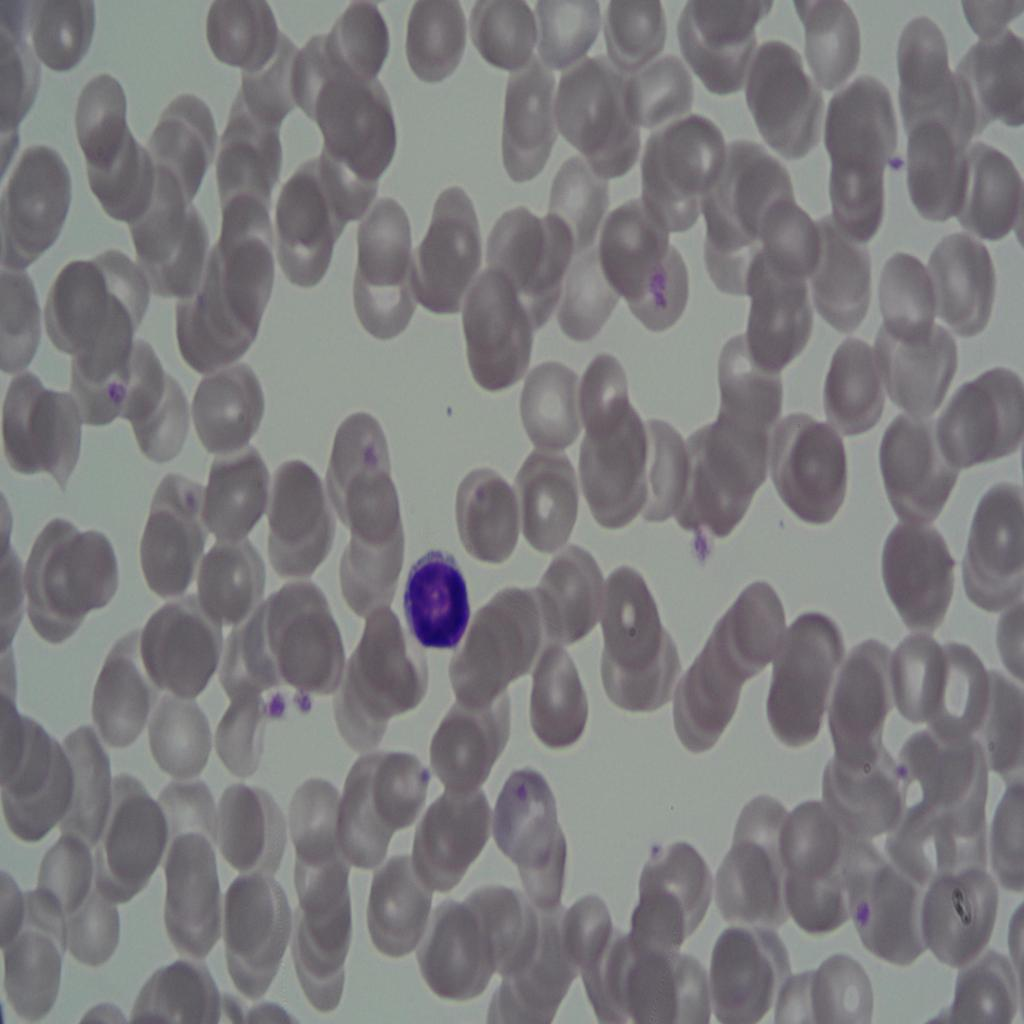Myeoblast: (403, 532, 488, 673)
Platelet: (98, 371, 134, 428), (292, 676, 327, 734), (692, 512, 727, 564), (840, 883, 877, 932), (356, 418, 379, 484), (262, 681, 291, 731), (637, 825, 662, 875), (888, 756, 916, 794), (646, 267, 668, 309), (512, 776, 532, 806), (418, 756, 437, 786)
